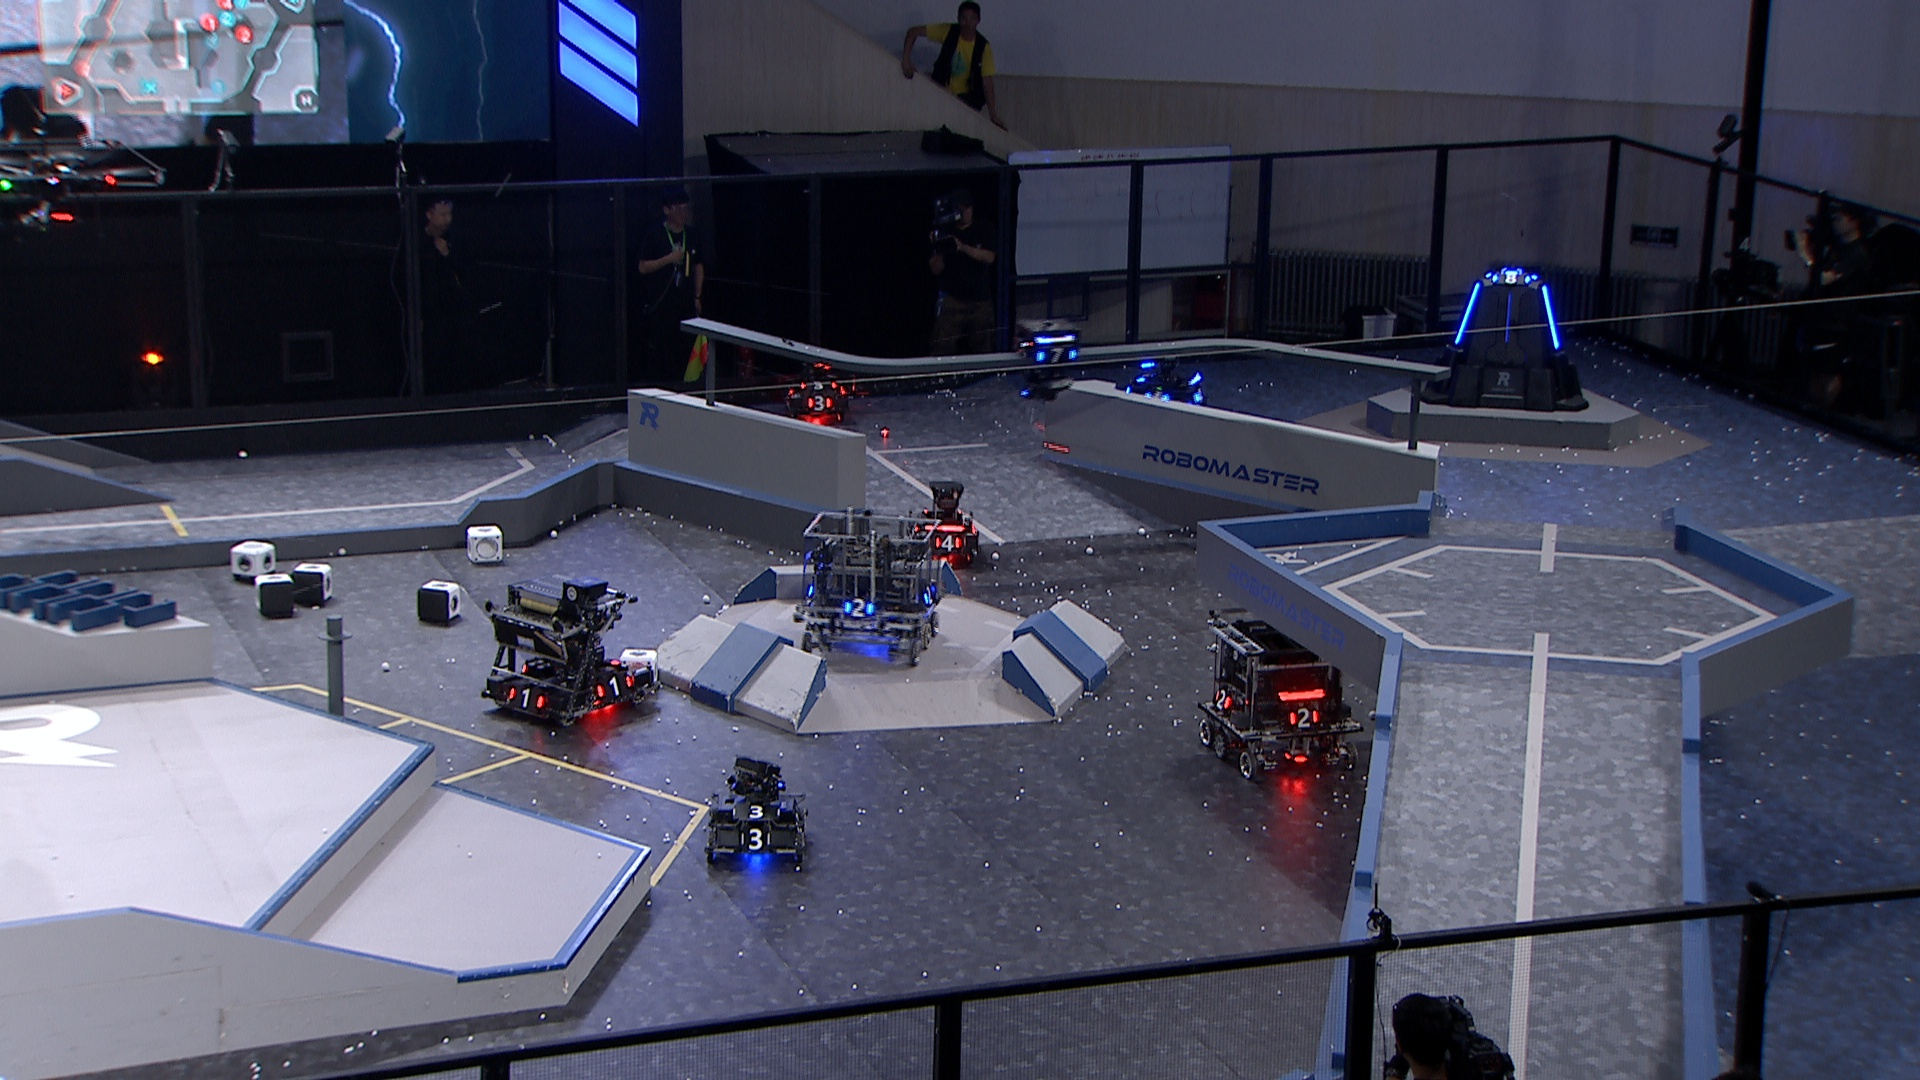armor: (1451, 278, 1484, 347), (1542, 285, 1563, 352), (728, 803, 781, 825), (735, 825, 771, 855), (593, 673, 636, 698), (1033, 344, 1079, 367), (505, 687, 549, 709), (1287, 703, 1321, 731), (1489, 266, 1534, 287), (843, 597, 874, 621), (1503, 291, 1516, 343), (934, 533, 963, 553), (796, 378, 839, 392), (1188, 381, 1209, 405), (1215, 684, 1232, 713), (806, 394, 832, 410), (920, 585, 939, 604)
base: (1415, 262, 1592, 414)
car: (1193, 603, 1365, 779), (480, 568, 659, 728), (793, 502, 942, 670), (699, 752, 812, 870), (893, 477, 981, 570), (1121, 351, 1212, 425), (779, 351, 860, 423)
watcher: (1013, 315, 1083, 401)
